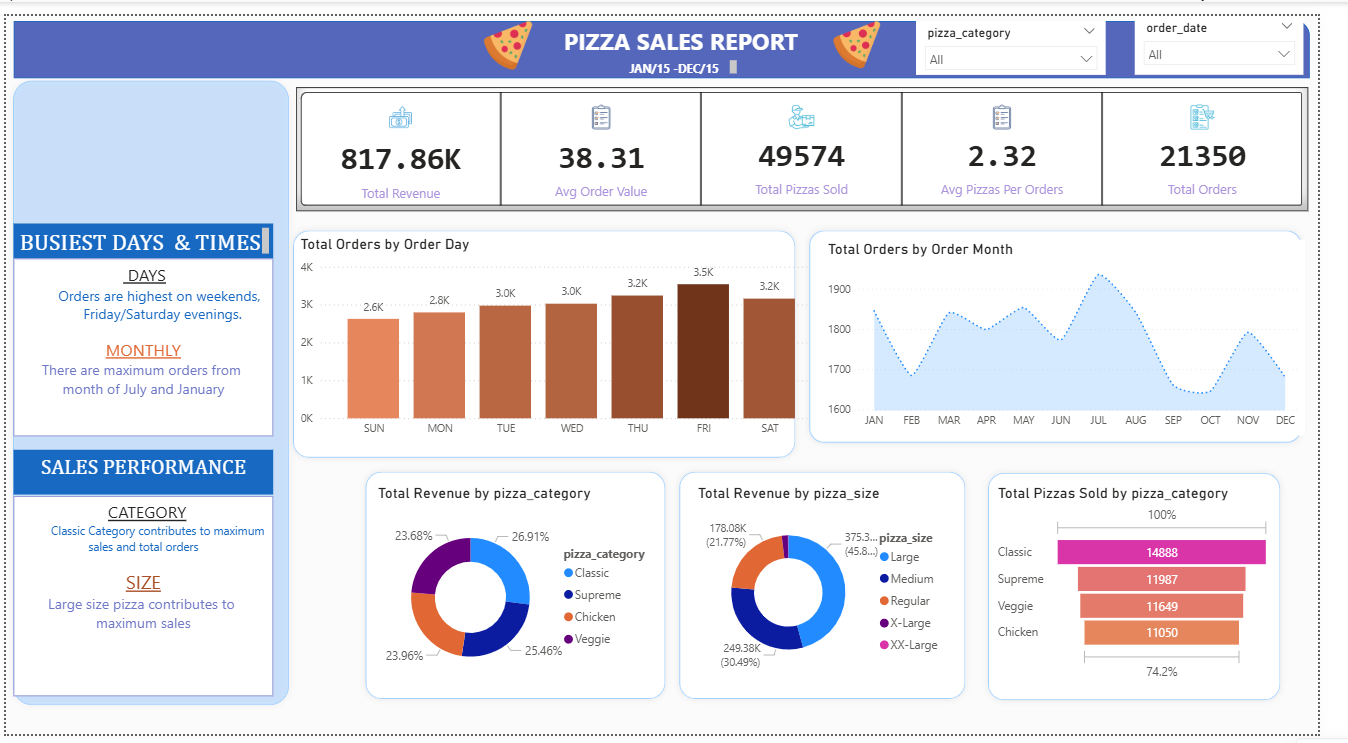

The page's visual inventory and layout, read from the dashboard file:
{"tool":"powerbi","page":{"name":"Page 1","canvas":[1500,820],"ordinal":0},"visuals":[{"type":"shape","box":[0,65.7,331.4,730],"z":0},{"type":"cardVisual","fields":{"Data":["pizza_sales.Total Revenue","pizza_sales.Avg Order Value","pizza_sales.Total Pizzas Sold","pizza_sales.Avg Pizzas Per Orders","pizza_sales.Total Orders"]},"box":[331.4,81.4,1157.1,141.4],"z":1000},{"type":"shape","box":[8.6,5.7,1481.4,65.7],"z":2000},{"type":"textbox","box":[245.7,5.7,1060,41.4],"z":3000},{"type":"textbox","box":[707.1,45.7,132.9,32.9],"z":4000},{"type":"image","box":[518.6,0,110,67.1],"z":5000},{"type":"image","box":[904.3,0,135.7,65.7],"z":6000},{"type":"shape","box":[320,237.1,590,275.7],"z":7000},{"type":"columnChart","fields":{"Category":["pizza_sales.Order Day"],"Y":["pizza_sales.Total Orders"]},"box":[331.4,250,607.1,240],"z":8000},{"type":"shape","box":[910,237.1,578.6,258.6],"z":9000},{"type":"textbox","box":[8.6,237.1,297.1,40],"z":10000},{"type":"areaChart","fields":{"Category":["pizza_sales.Order Month"],"Y":["pizza_sales.Total Orders"]},"box":[934.3,255.7,550,224.3],"z":11000},{"type":"shape","box":[402.9,512.9,358.6,275.7],"z":12000},{"type":"shape","box":[761.4,512.9,342.9,275.7],"z":13000},{"type":"shape","box":[1114.3,514.3,350,275.7],"z":14000},{"type":"donutChart","fields":{"Category":["pizza_sales.pizza_category"],"Y":["pizza_sales.Total Revenue"]},"box":[420,534.3,330,241.4],"z":15000},{"type":"donutChart","fields":{"Y":["pizza_sales.Total Revenue"],"Category":["pizza_sales.pizza_size"]},"box":[785.7,534.3,297.1,230],"z":16000},{"type":"funnel","fields":{"Category":["pizza_sales.pizza_category"],"Y":["pizza_sales.Total Pizzas Sold"]},"box":[1128.6,534.3,321.4,230],"z":17000},{"type":"textbox","box":[8.6,277.1,297.1,202.9],"z":18000},{"type":"textbox","box":[8.6,495.7,297.1,51.4],"z":19000},{"type":"textbox","box":[8.6,548.6,297.1,228.6],"z":20000},{"type":"slicer","fields":{"Values":["pizza_sales.pizza_category"]},"box":[1040,5.7,217.1,61.4],"z":21000},{"type":"slicer","fields":{"Values":["pizza_sales.order_date"]},"box":[1290,0,192.9,67.1],"z":22000}]}

Visuals, with their boxes in screenshot pixels (x1, y1, x2, y2), scaled from the page's 1500x820 canvas onto the 1348x743 screenshot:
shape: l=0, t=60, r=298, b=721
cardVisual - pizza_sales.Total Revenue x pizza_sales.Avg Order Value: l=298, t=74, r=1338, b=202
shape: l=8, t=5, r=1339, b=65
textbox: l=221, t=5, r=1173, b=43
textbox: l=635, t=41, r=755, b=71
image: l=466, t=0, r=565, b=61
image: l=813, t=0, r=935, b=60
shape: l=288, t=215, r=818, b=465
columnChart - pizza_sales.Order Day x pizza_sales.Total Orders: l=298, t=227, r=843, b=444
shape: l=818, t=215, r=1338, b=449
textbox: l=8, t=215, r=275, b=251
areaChart - pizza_sales.Order Month x pizza_sales.Total Orders: l=840, t=232, r=1334, b=435
shape: l=362, t=465, r=684, b=715
shape: l=684, t=465, r=992, b=715
shape: l=1001, t=466, r=1316, b=716
donutChart - pizza_sales.pizza_category x pizza_sales.Total Revenue: l=377, t=484, r=674, b=703
donutChart - pizza_sales.Total Revenue x pizza_sales.pizza_size: l=706, t=484, r=973, b=693
funnel - pizza_sales.pizza_category x pizza_sales.Total Pizzas Sold: l=1014, t=484, r=1303, b=693
textbox: l=8, t=251, r=275, b=435
textbox: l=8, t=449, r=275, b=496
textbox: l=8, t=497, r=275, b=704
slicer - pizza_sales.pizza_category: l=935, t=5, r=1130, b=61
slicer - pizza_sales.order_date: l=1159, t=0, r=1333, b=61
